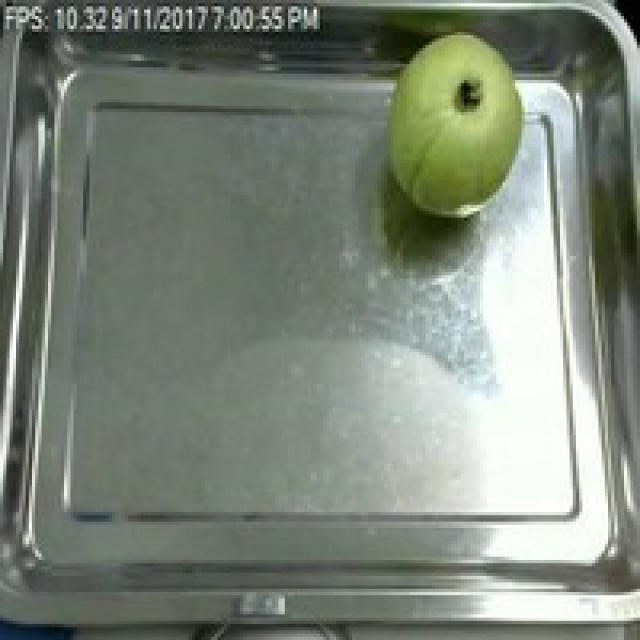Fruit: (368, 19, 538, 230)
